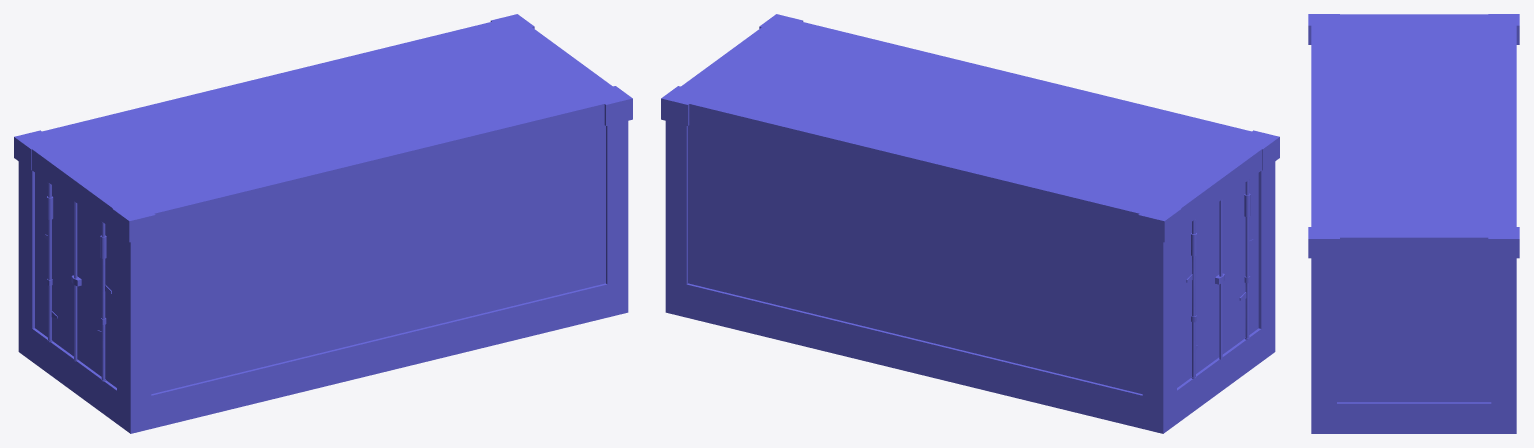
The model's file is Prop_SeaContainer.FBX.
3 renders of one model, left to right at view 1: azimuth 30°, elevation 25°; view 2: azimuth 150°, elevation 25°; view 3: azimuth 270°, elevation 25°, orthographic. The views are drawn at different scales.
Parts seen in each view (by area): view 1: Container; view 2: Container; view 3: Container.
Part boxes in pixels (x1,y1,x2,y2): Container: (14,14,632,433); Container: (661,14,1279,433); Container: (1308,14,1519,433).
Bounding box in the file's own units: 614 × 250 × 244.
